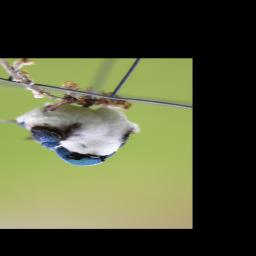Swallow: (0, 94, 142, 167)
